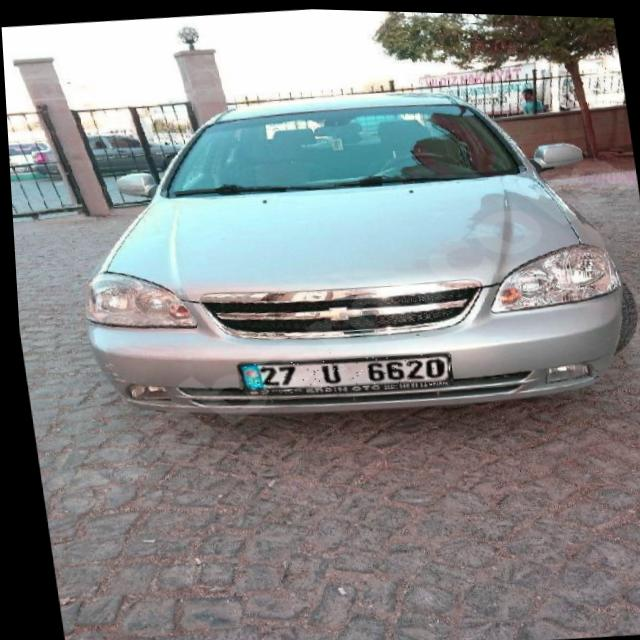license_plate: (230, 345, 446, 395)
